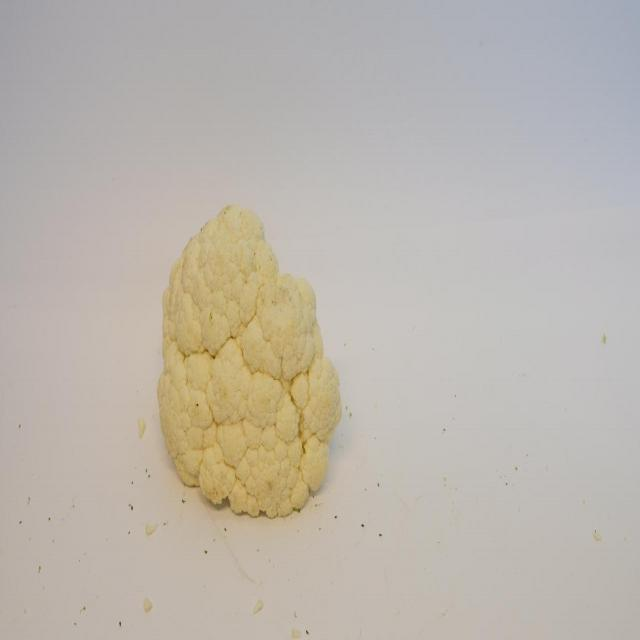cauliflower: (156, 198, 346, 520)
